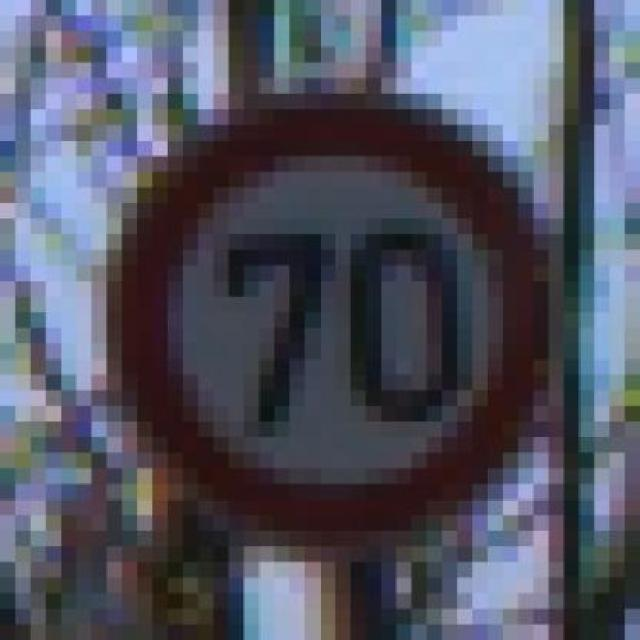forb_speed_over_70: (116, 102, 550, 543)
